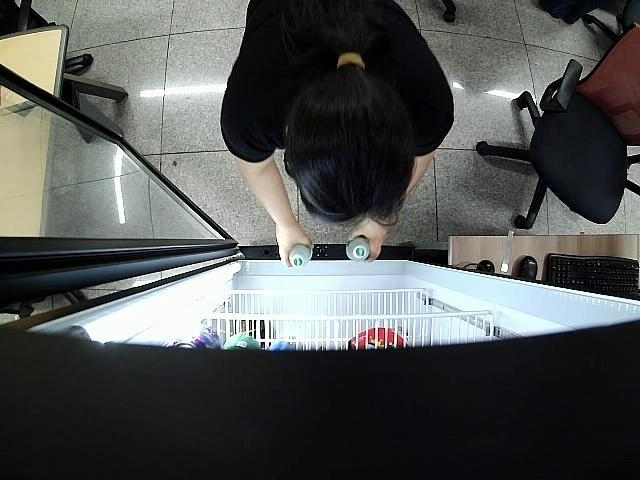18_trevi: (344, 237, 372, 263), (284, 244, 310, 270)
